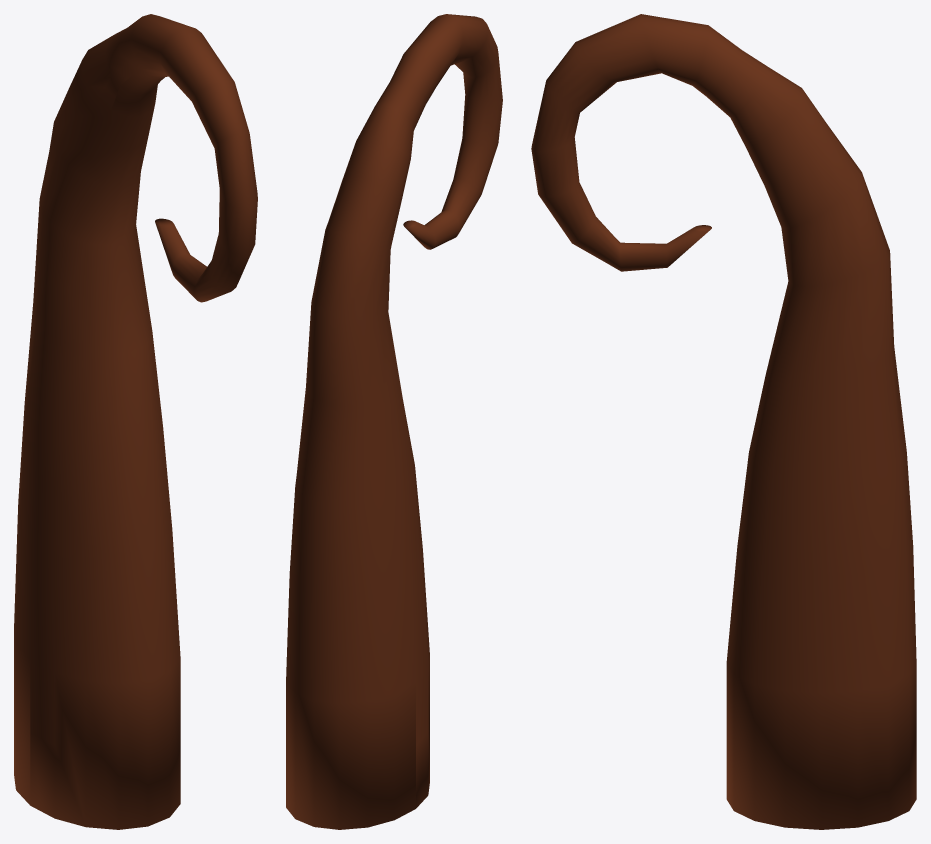
File: LightStick.fbx
The picture shows the model from 3 angles, left to right: view 1: azimuth 30°, elevation 25°; view 2: azimuth 150°, elevation 25°; view 3: azimuth 270°, elevation 25°; orthographic projection. The views are drawn at different scales.
Visible parts, largest first — view 1: LongLightStick; view 2: LongLightStick; view 3: LongLightStick.
Boxes of the visible parts, bbox=[...] form: LongLightStick: bbox=[14, 14, 257, 829]; LongLightStick: bbox=[286, 14, 502, 829]; LongLightStick: bbox=[531, 14, 916, 829].
Bounding box in the file's own units: 111 × 660 × 296.
